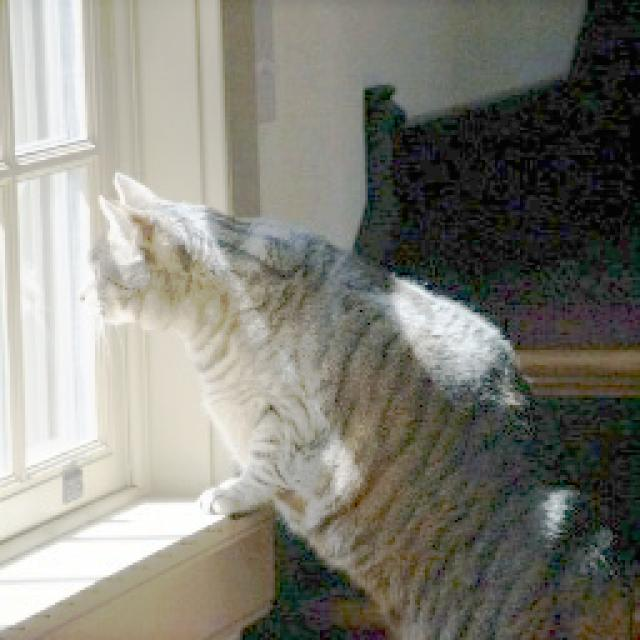cat: (71, 152, 634, 636)
